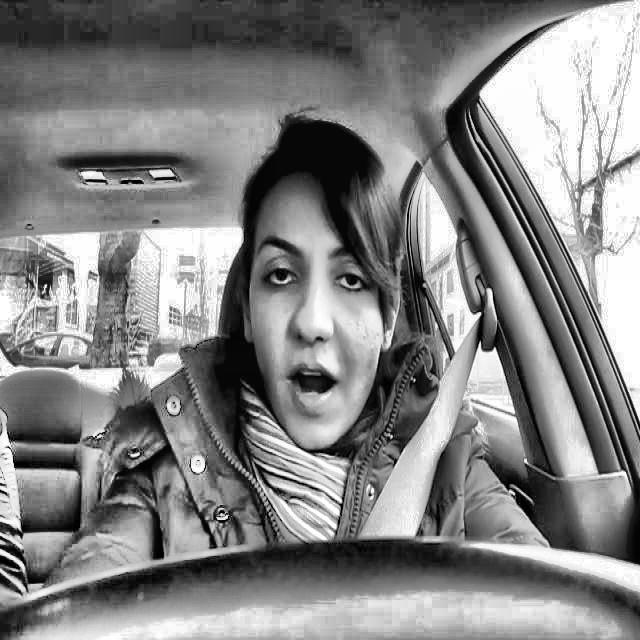open_eyes: (247, 254, 305, 302), (322, 259, 377, 303)
open_mouth: (273, 354, 356, 426)
